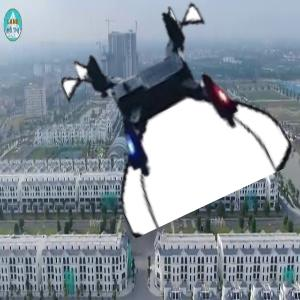drone: (69, 12, 271, 214)
